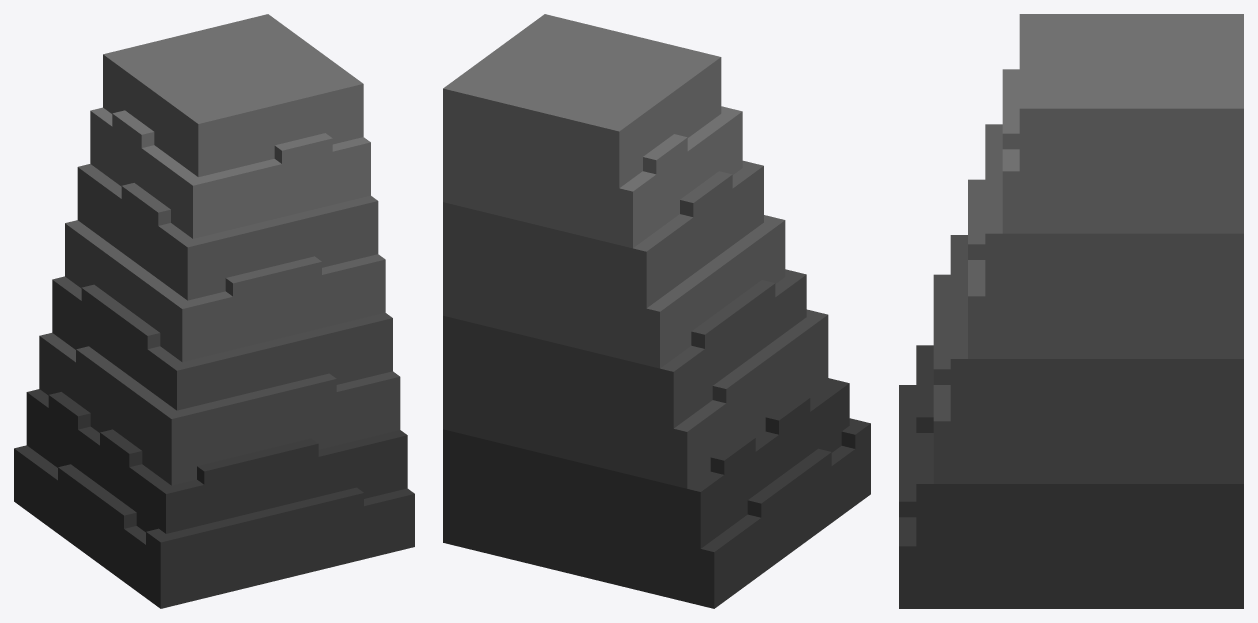
Rendered from mountain-edge-outer-2.gltf.
3 renders of one model, left to right at view 1: azimuth 30°, elevation 25°; view 2: azimuth 150°, elevation 25°; view 3: azimuth 270°, elevation 25°, orthographic. The views are drawn at different scales.
Visible parts, largest first — view 1: mountain-edge-outer-2; view 2: mountain-edge-outer-2; view 3: mountain-edge-outer-2.
Part boxes in pixels (x1,y1,x2,y2): mountain-edge-outer-2: [14, 14, 414, 608]; mountain-edge-outer-2: [443, 14, 870, 608]; mountain-edge-outer-2: [899, 14, 1243, 608].
Size of the model in its own units: 2 by 3.2 by 2.
1 material, 1 textured.
